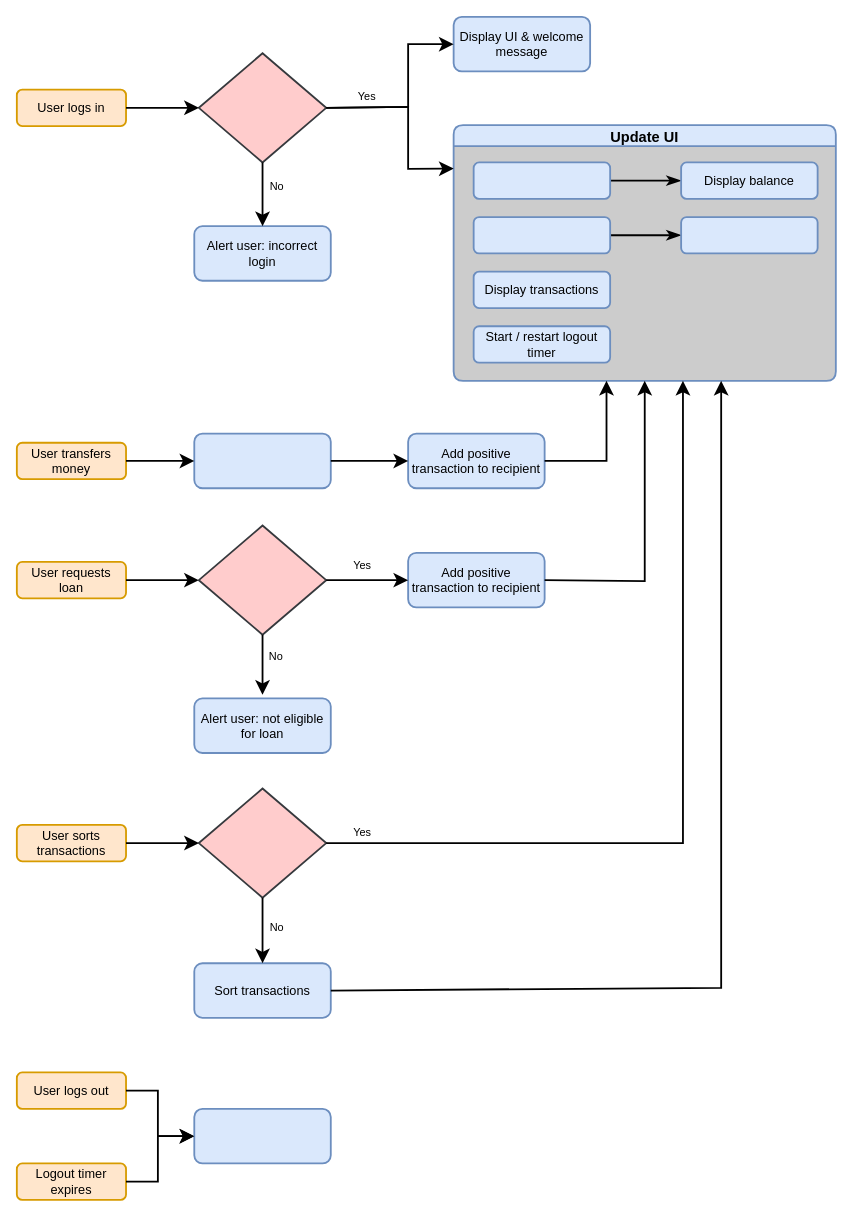
The diagram is 852 pixels wide and 1216 high, and some of its shapes have lost their labels. Each missing label, with the box of its shape:
Add negative transaction to current user: (193, 432, 331, 489)
Already sorted?: (197, 787, 327, 898)
Calculate balance: (472, 161, 611, 199)
Calculate summary: (472, 216, 611, 254)
Correct credentials?: (197, 52, 327, 163)
Display summary: (680, 216, 818, 254)
Log user out (hide UI): (193, 1107, 331, 1164)
Request ≤ 30% of balance?: (197, 524, 327, 635)
